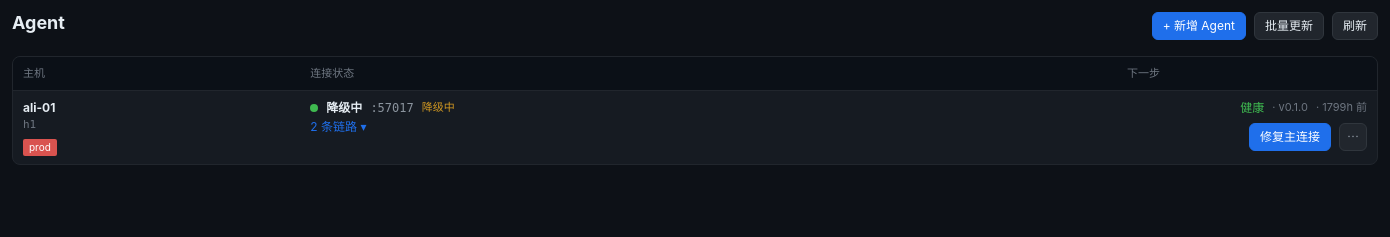
Test: AgentManagerTab › renders localized transport names in route details
What coordinates should you click on to do the following:
click the button with test id "agent-route-toggle-h1"
I would click on:
 (338, 126)
Its box is [310,120,366,132].
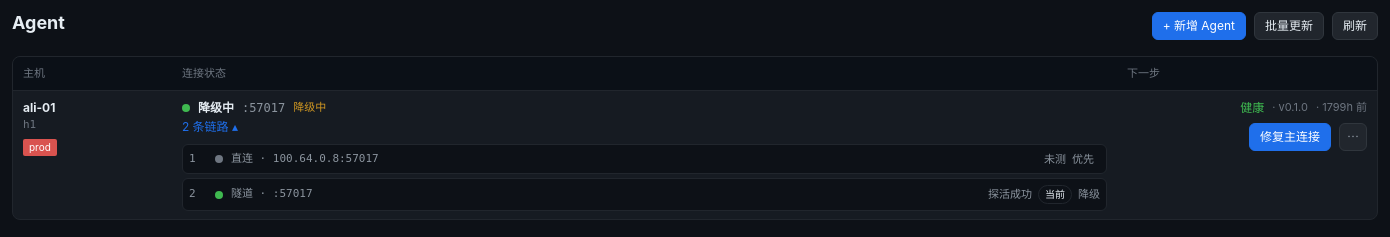
expect the element with test id "agent-route-row-h1-0" shows "直连 · 100.64.0.8:57017": met, box [231,152,379,164]
expect the element with test id "agent-route-row-h1-1" shows "隧道 · :57017": met, box [231,187,312,200]
